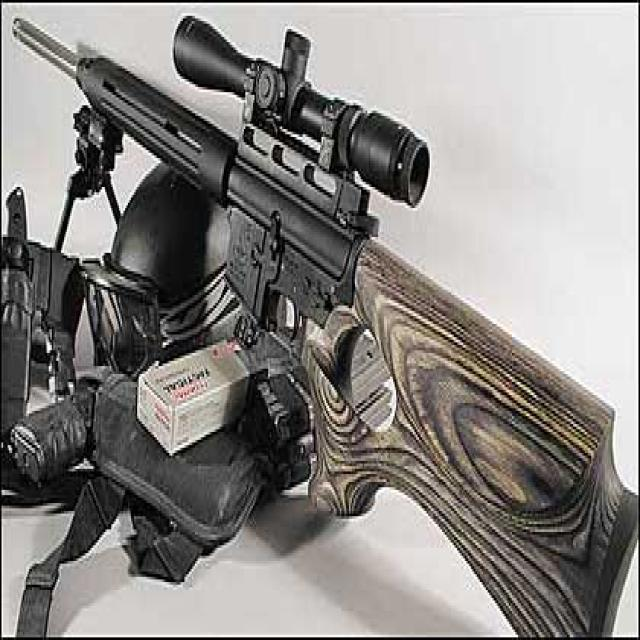Rifle: (14, 18, 637, 637)
